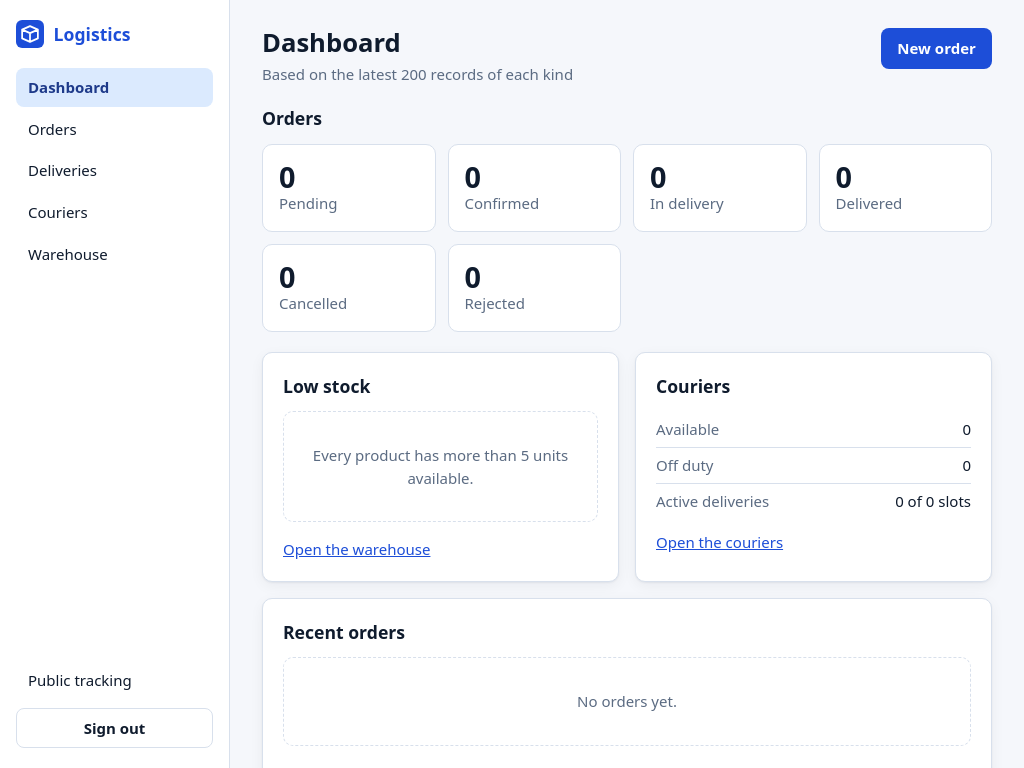
Test: sign in › signs out and returns to the sign-in page
Click the button "Sign out" at (114, 728), box [16, 708, 213, 748]
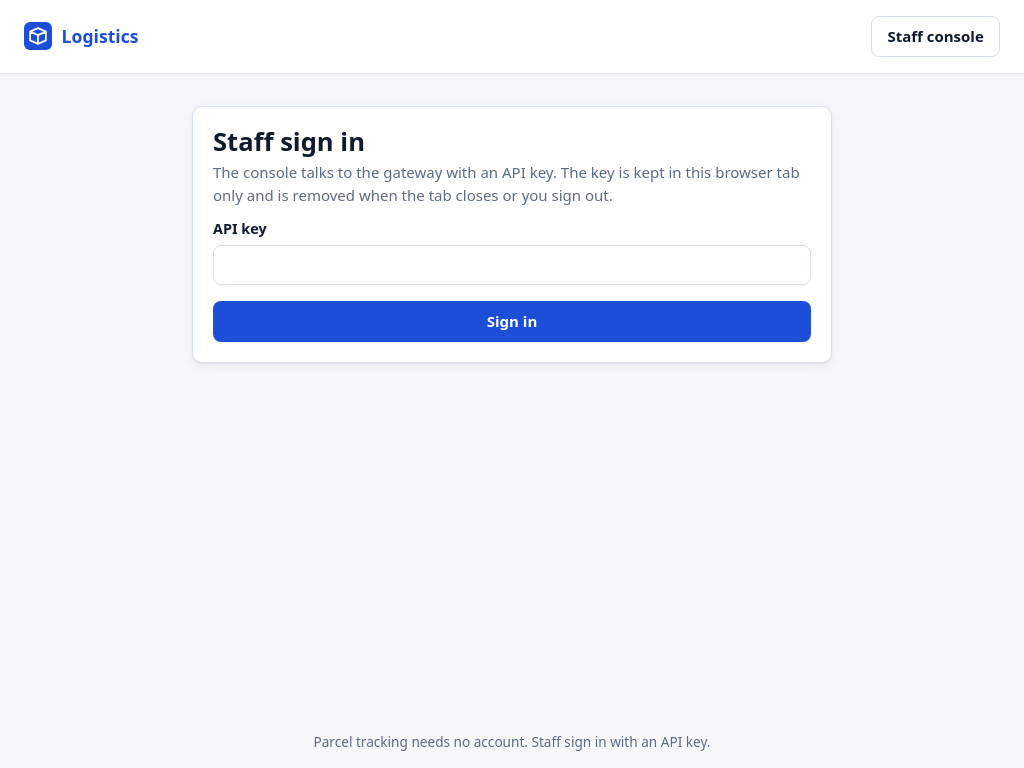
Check: the heading "Staff sign in" is shown, box [213, 124, 365, 158]
